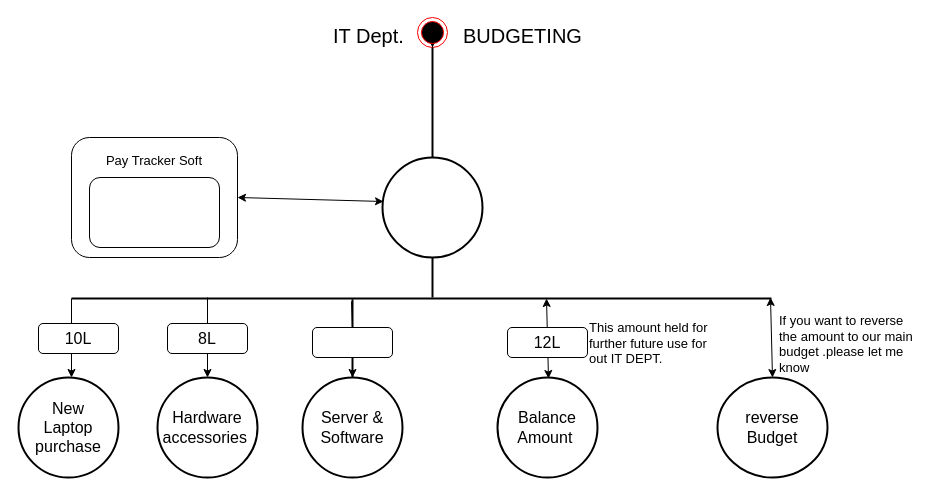
Some shapes in this 934 by 496 pixel diagram are drawn without their labels. The shapes that lost their labels are listed below. From the top down, each one's box as (x1, y1, x2, y2) in pixels, then its label:
(88, 176, 220, 248): PO Request, Order Placed and Payments tracking
(381, 156, 483, 258): 5000000 Per Year
(312, 326, 392, 358): 20L
